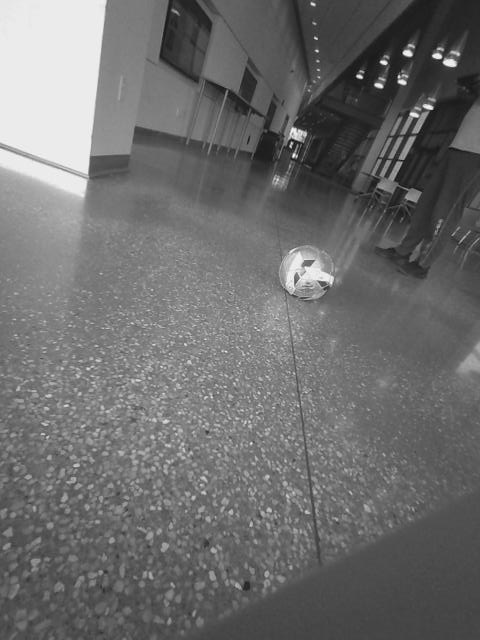ball: (275, 242, 339, 300)
